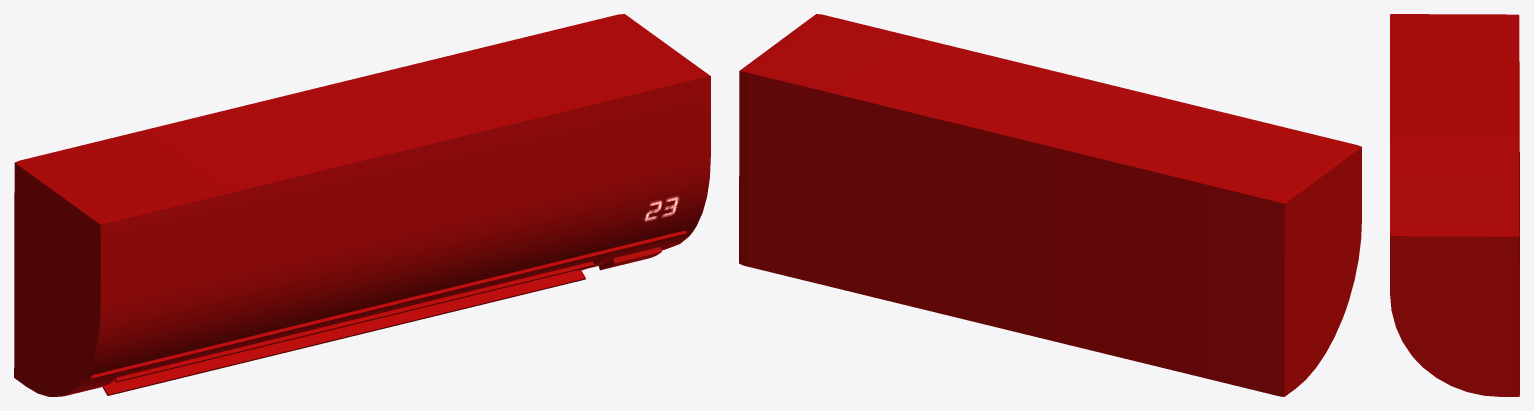
File: AC_Indoor_low.fbx
The picture shows the model from 3 angles, left to right: view 1: azimuth 30°, elevation 25°; view 2: azimuth 150°, elevation 25°; view 3: azimuth 270°, elevation 25°; orthographic projection. The views are drawn at different scales.
Parts seen in each view (by area): view 1: Indoor_low; view 2: Indoor_low; view 3: Indoor_low.
Boxes of the visible parts, x1,y1,x2,y2 form: Indoor_low: (14,14,710,396); Indoor_low: (739,14,1361,396); Indoor_low: (1390,14,1519,396).
Bounding box in the file's own units: 78.53 × 26.72 × 19.42.
